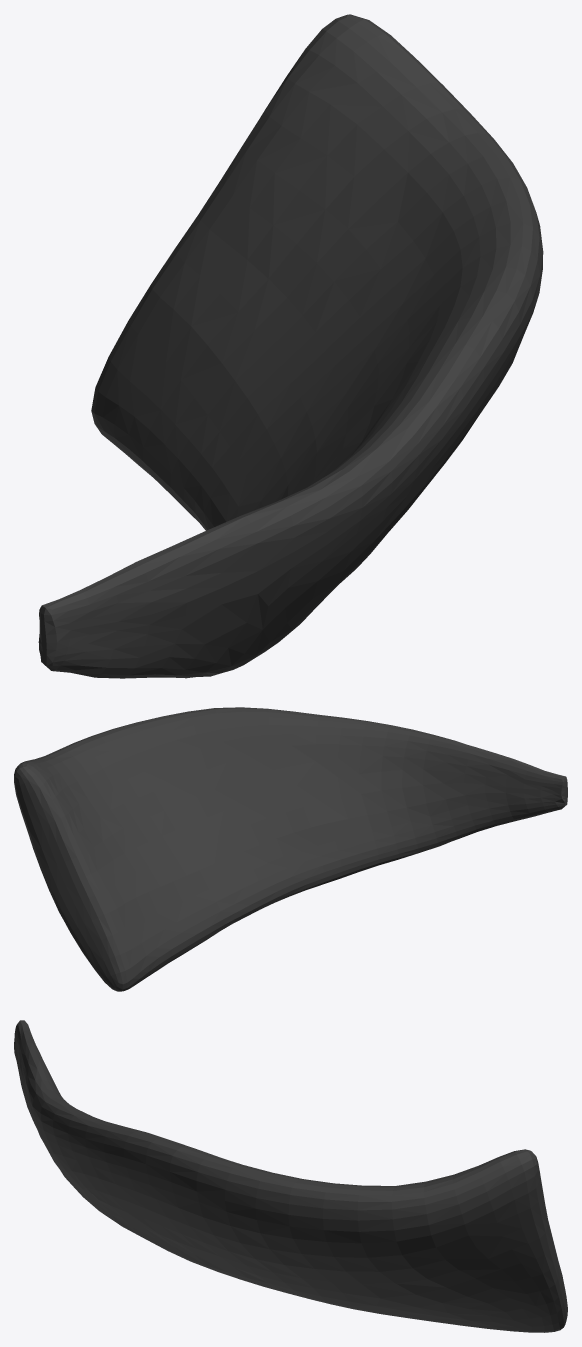
File: m_arytenoideus_transversus_LO_L.glb
3 renders of one model, top to bottom at view 1: azimuth 30°, elevation 25°; view 2: azimuth 150°, elevation 25°; view 3: azimuth 270°, elevation 25°, orthographic. The views are drawn at different scales.
Parts seen in each view (by area): view 1: m_arytenoideus_transversus_LO_L; view 2: m_arytenoideus_transversus_LO_L; view 3: m_arytenoideus_transversus_LO_L.
Part boxes in pixels (x1,y1,x2,y2): m_arytenoideus_transversus_LO_L: (38,14,543,678); m_arytenoideus_transversus_LO_L: (14,707,567,991); m_arytenoideus_transversus_LO_L: (14,1020,567,1332).
Bounding box in the file's own units: 0.0972 × 0.0476 × 0.0967.
1 material, 1 textured.
